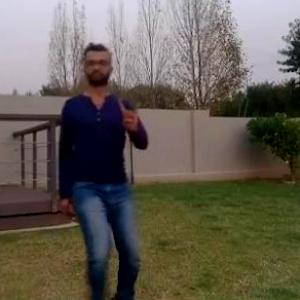takeoff-hand: (116, 90, 147, 132)
